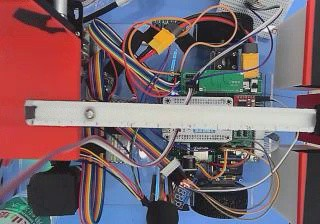ironball: (83, 109, 93, 119)
